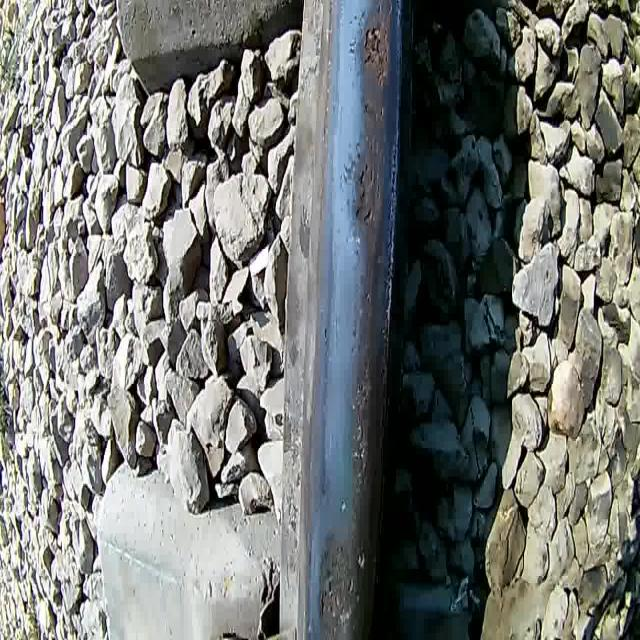Cracks: (348, 342, 376, 506)
Spallings: (316, 535, 368, 624), (359, 17, 390, 90), (352, 155, 378, 230)
Squats: (311, 516, 370, 640), (346, 0, 401, 123), (341, 135, 392, 252)
